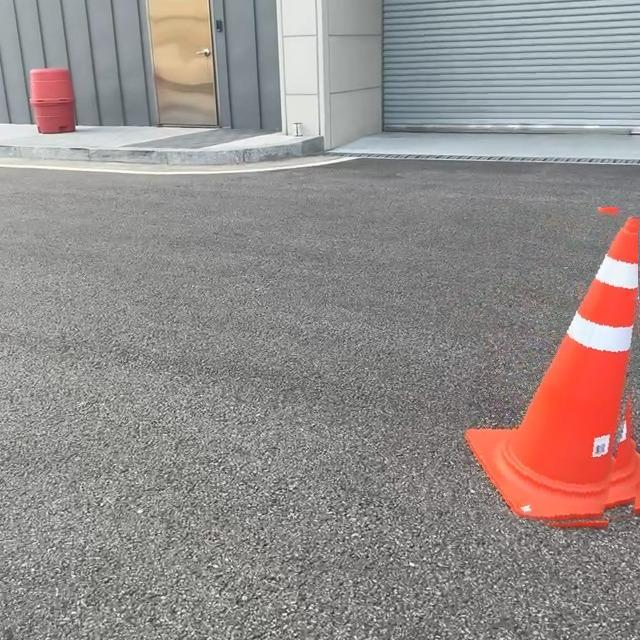fallen_object: (357, 137, 640, 640)
